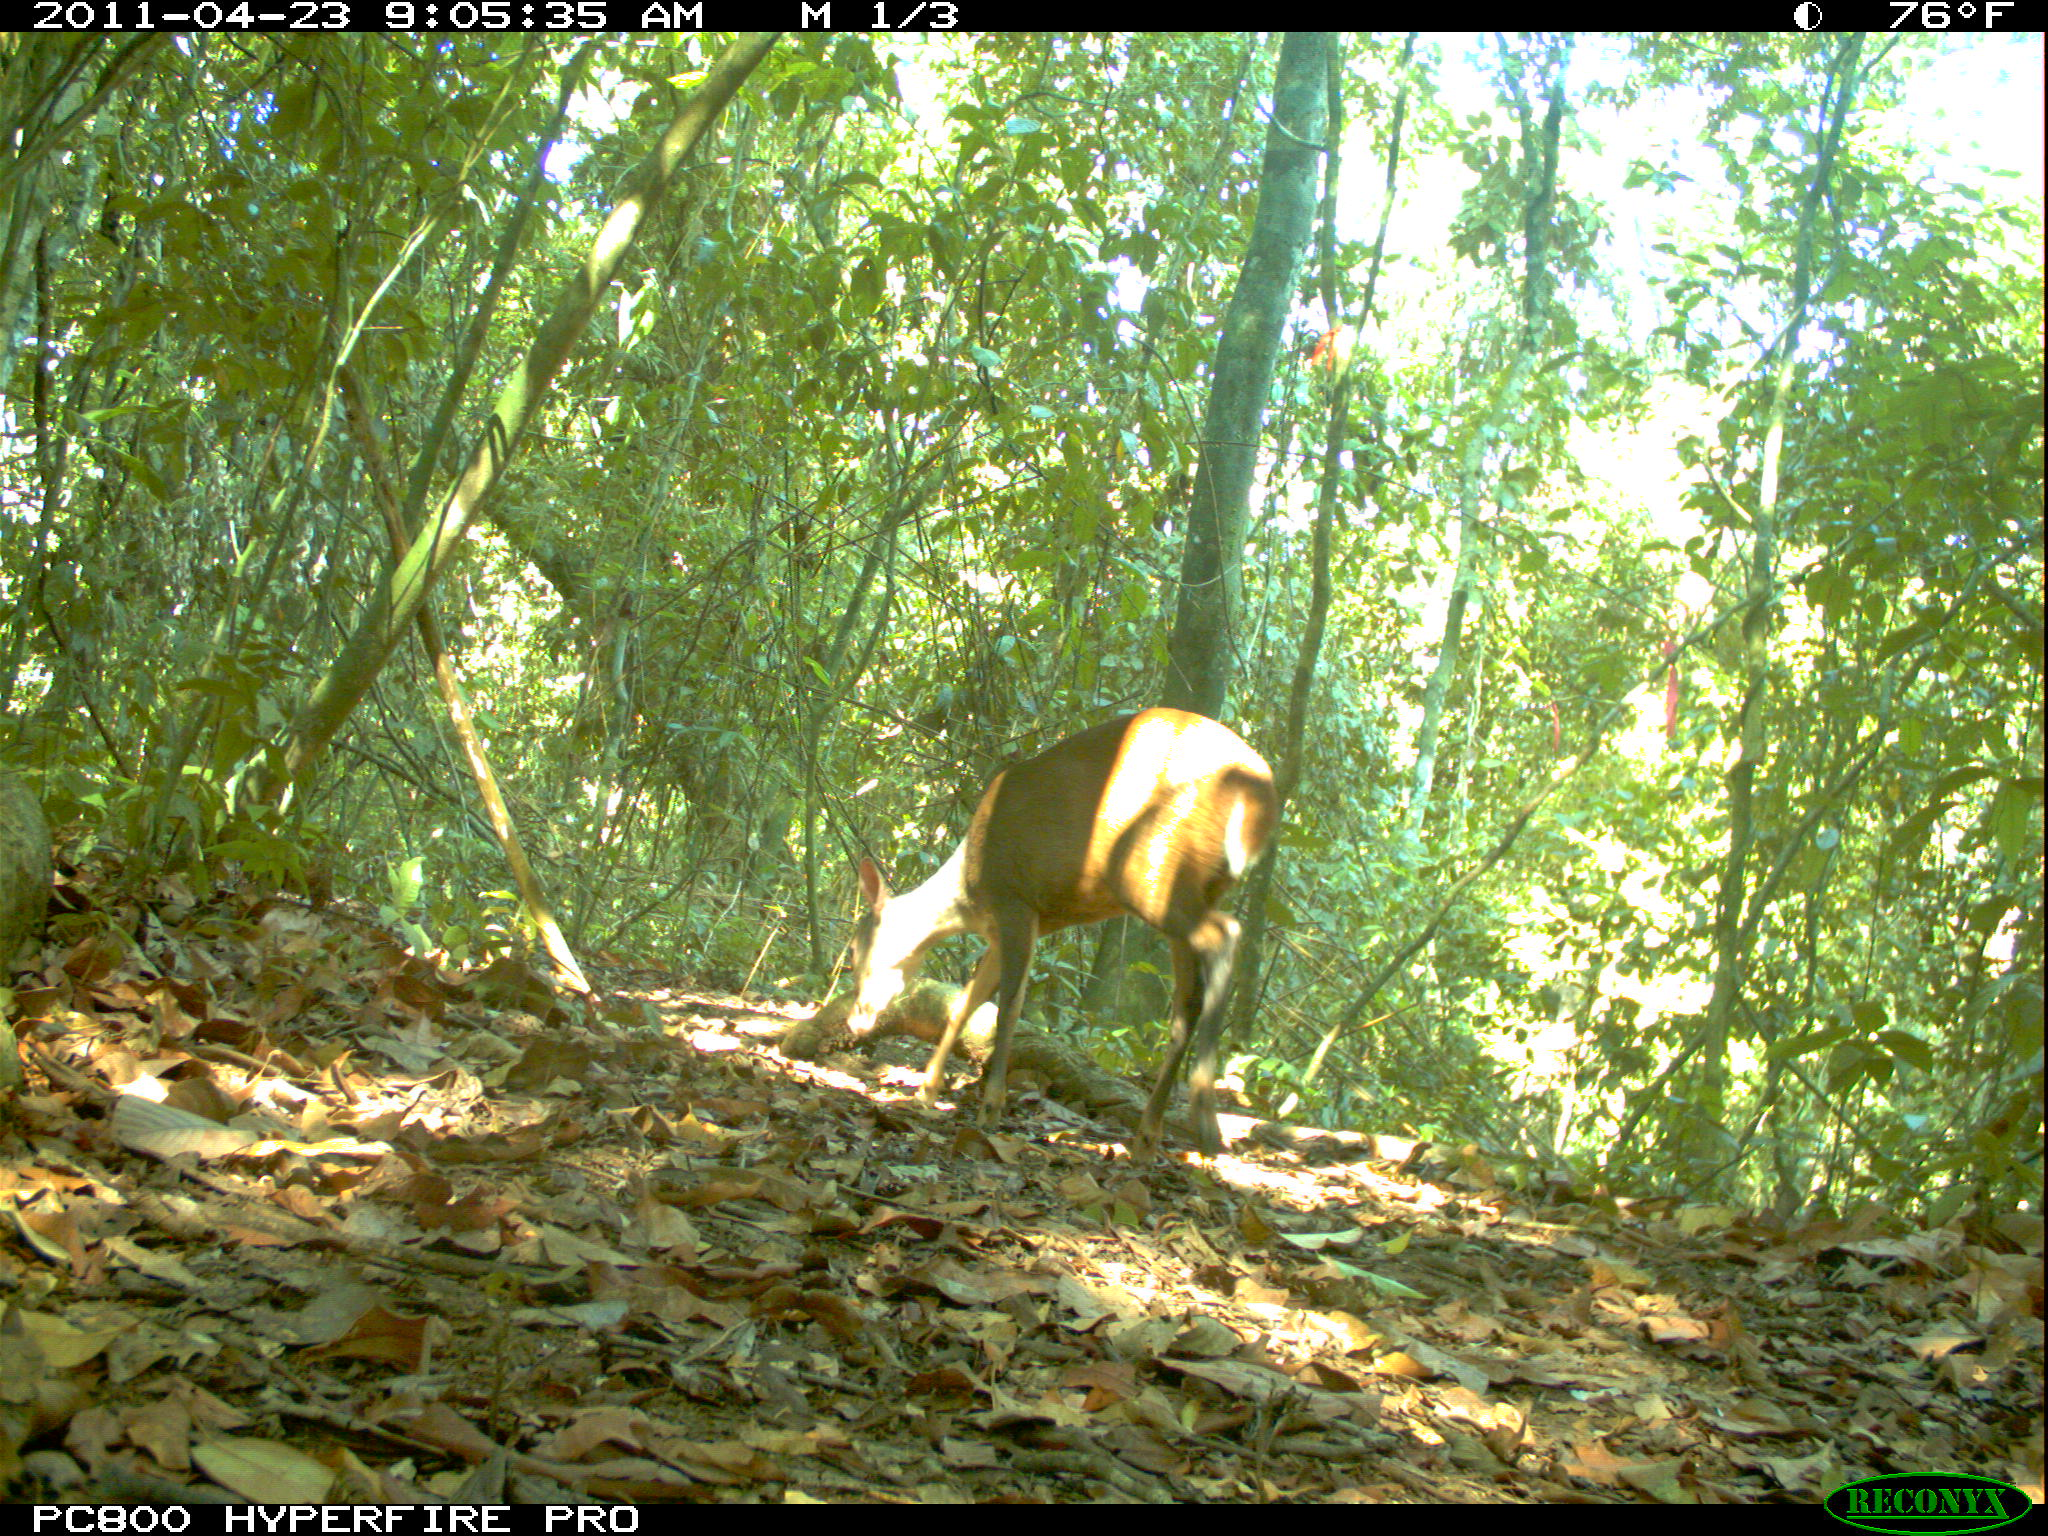Deer: (842, 707, 1292, 1184)
